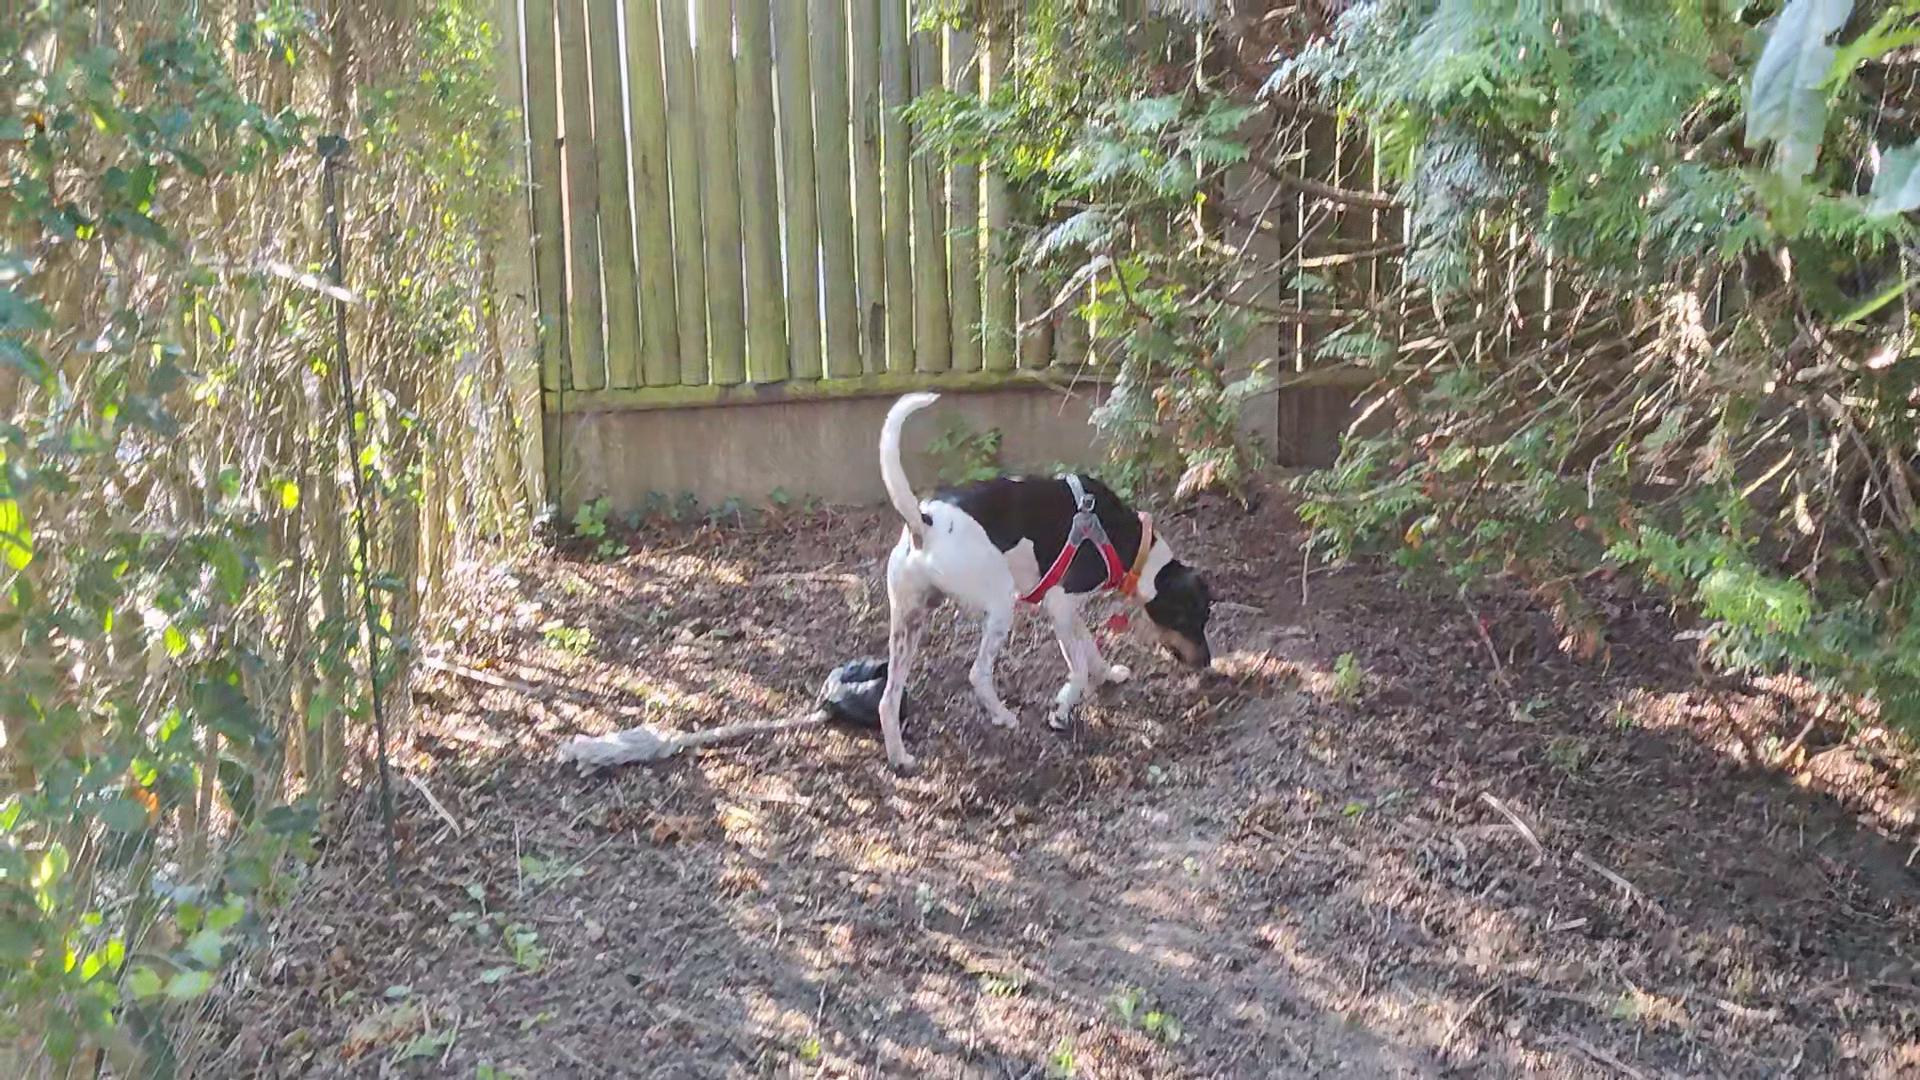Dog: (847, 378, 1232, 793)
